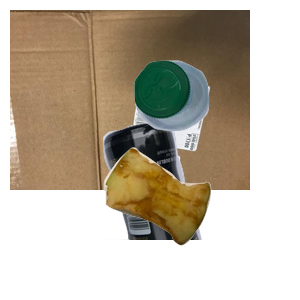cardboard: (10, 10, 250, 190)
glass: (37, 120, 231, 300)
plastic: (132, 58, 300, 182)
trash: (101, 145, 300, 300)
